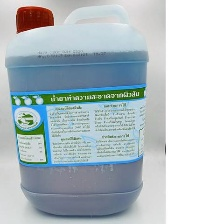cleaning_solution: (4, 2, 147, 219)
